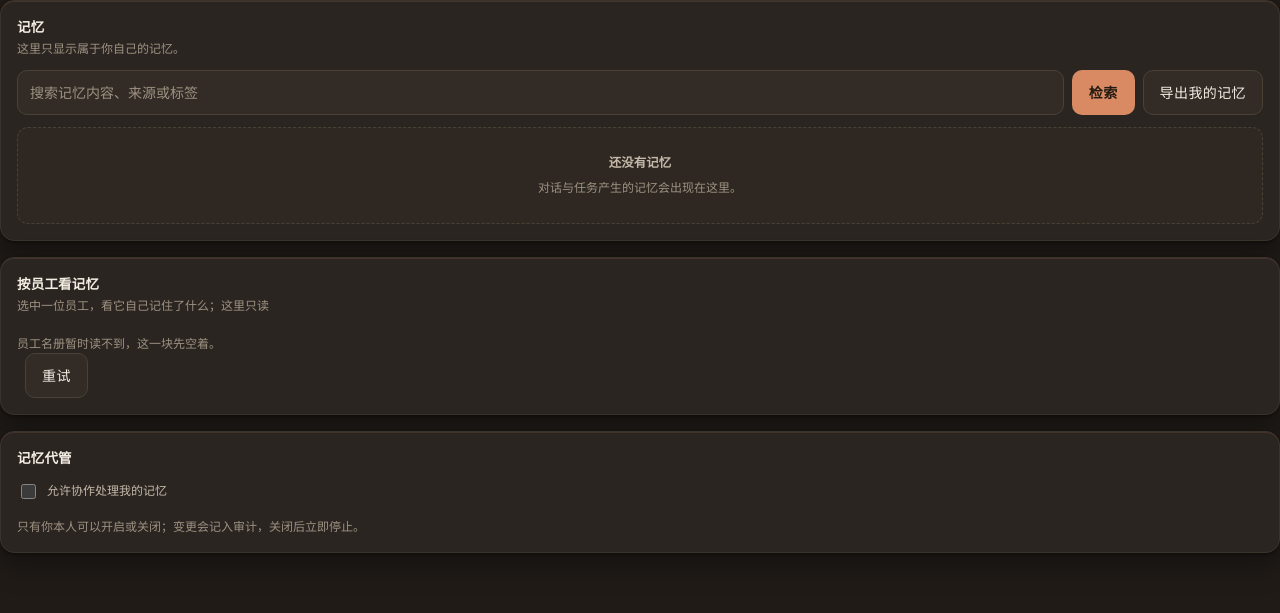
Test: 记忆页（真实端点） › 代管开关读到真实状态，点击后 POST 真实 enabled
Step 1. Click the checkbox labelled "允许协作处理我的记忆" → coordinates (28, 491), box [21,484,36,498]
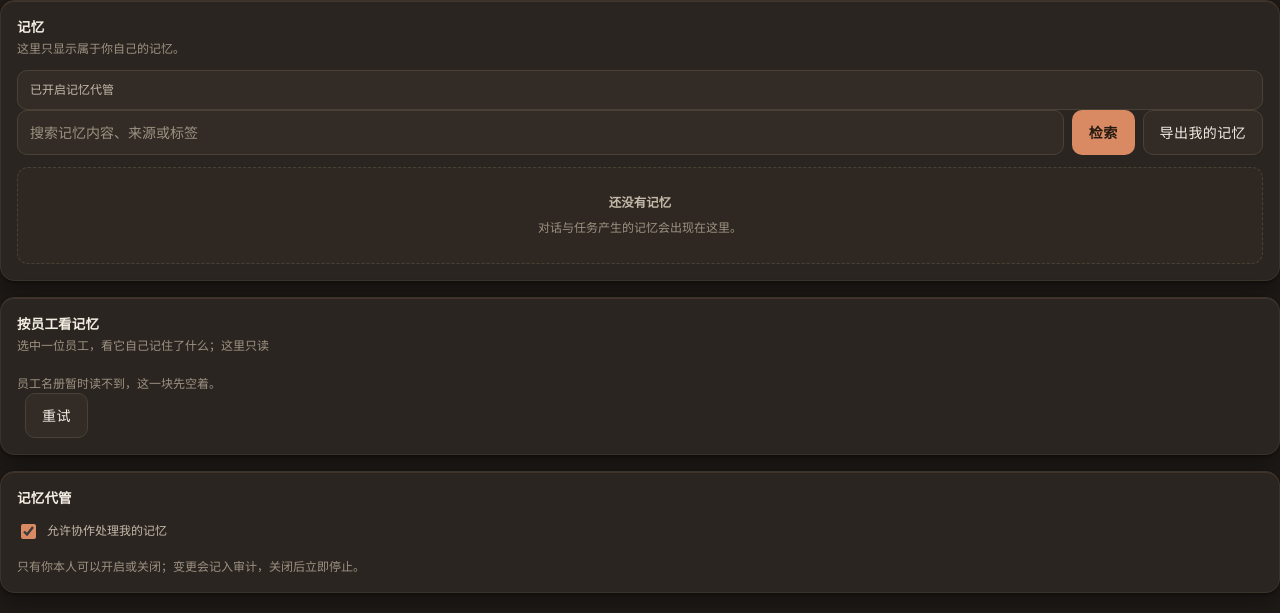
expect the text "已开启记忆代管" is shown: met, box [17,70,1263,110]
